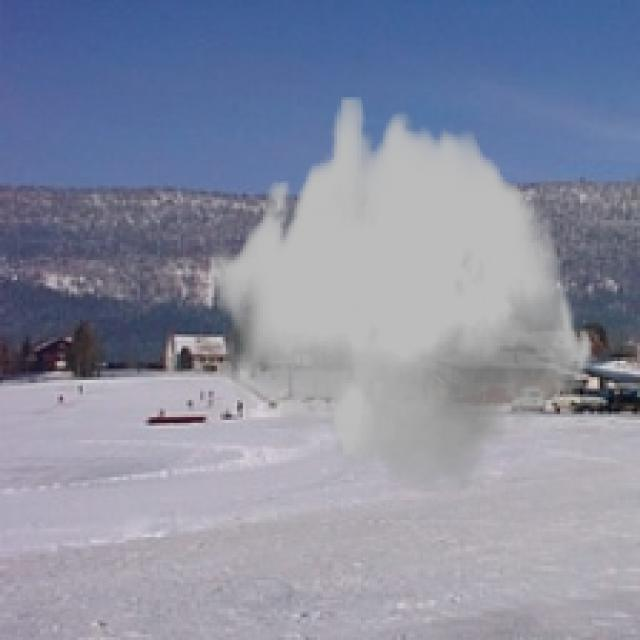smoke: (209, 97, 594, 492)
